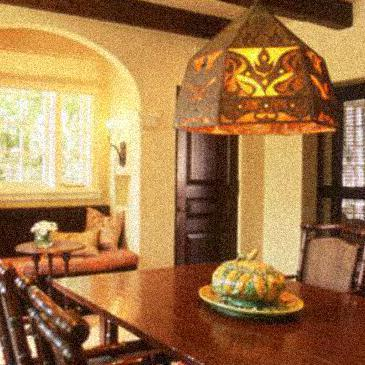Puerta: (180, 94, 240, 260)
